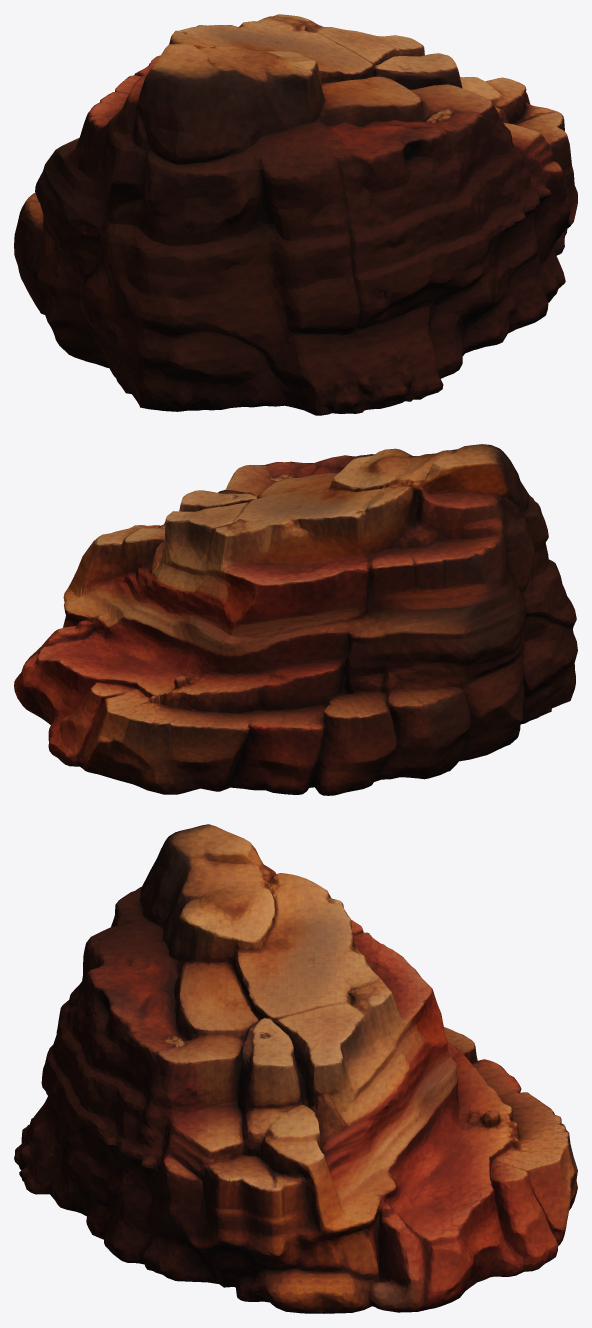
File: media_1795020844091_0aaf81c0.glb
3 views of the same model, one above another, from view 1: azimuth 30°, elevation 25°; view 2: azimuth 150°, elevation 25°; view 3: azimuth 270°, elevation 25° (orthographic). The views are drawn at different scales.
Parts seen in each view (by area): view 1: geometry_0; view 2: geometry_0; view 3: geometry_0.
Boxes of the visible parts, box(x1,y1,x2,y2) form: geometry_0: box(14, 14, 577, 415); geometry_0: box(14, 444, 577, 795); geometry_0: box(14, 824, 577, 1313).
Size of the model in its own units: 0.691 by 0.3805 by 0.6819.
1 material, 1 textured.
